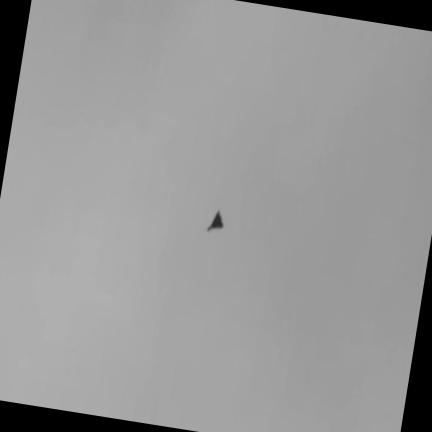Shahed: (208, 211, 223, 232)
